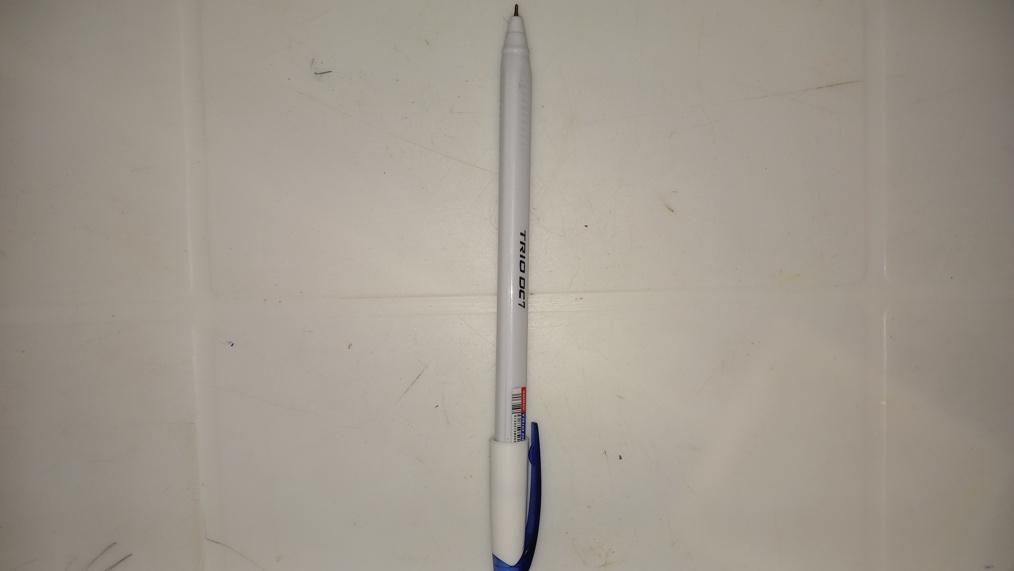pen: (488, 0, 545, 569)
